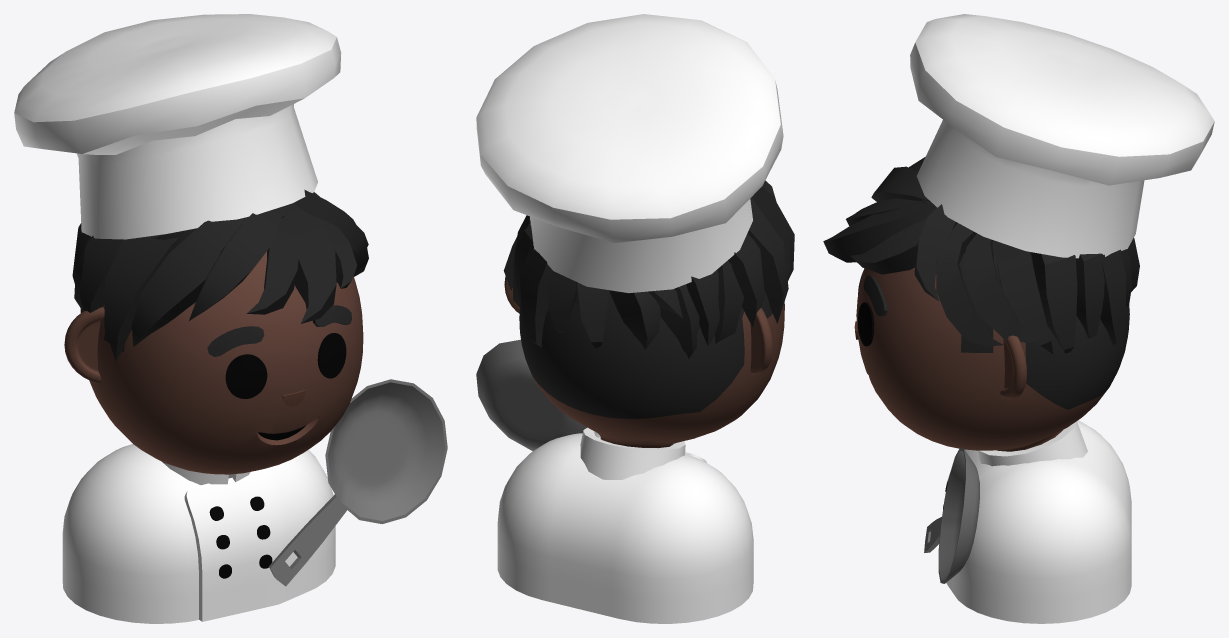
Rendered from cook.glb.
The picture shows the model from 3 angles, left to right: view 1: azimuth 30°, elevation 25°; view 2: azimuth 150°, elevation 25°; view 3: azimuth 270°, elevation 25°; orthographic projection. The views are drawn at different scales.
Parts seen in each view (by area): view 1: Circle.612, Sphere.053, Roundcube.095, Cube.1181, Circle.613, Circle.608, Cylinder.086, Circle.610, Cube.1189, Roundcube.096; view 2: Circle.612, Sphere.053, Roundcube.095, Cube.1181, Circle.613, Roundcube.096, Cylinder.086; view 3: Circle.612, Roundcube.095, Cube.1181, Sphere.053, Circle.613, Roundcube.096, Cylinder.086, Circle.608, Circle.610.
Boxes of the visible parts, x1,y1,x2,y2 form: Circle.612: [14, 14, 341, 239]; Sphere.053: [62, 444, 335, 623]; Roundcube.095: [80, 251, 363, 474]; Cube.1181: [72, 189, 368, 361]; Circle.613: [269, 379, 447, 586]; Circle.608: [225, 333, 346, 398]; Cylinder.086: [64, 307, 104, 383]; Circle.610: [207, 305, 351, 356]; Cube.1189: [209, 496, 272, 578]; Roundcube.096: [162, 462, 250, 485]; Circle.612: [476, 14, 783, 293]; Sphere.053: [497, 433, 753, 623]; Roundcube.095: [519, 290, 784, 447]; Cube.1181: [503, 180, 794, 358]; Circle.613: [476, 339, 586, 450]; Roundcube.096: [580, 427, 685, 479]; Cylinder.086: [504, 276, 772, 373]; Circle.612: [910, 14, 1214, 258]; Roundcube.095: [856, 241, 1129, 451]; Cube.1181: [823, 157, 1139, 353]; Sphere.053: [945, 420, 1131, 623]; Circle.613: [924, 447, 979, 583]; Roundcube.096: [977, 421, 1087, 466]; Cylinder.086: [1000, 335, 1027, 399]; Circle.608: [858, 270, 874, 346]; Circle.610: [863, 275, 887, 316].
Bounding box in the file's own units: 1.74 × 2.57 × 1.74.
2 materials, 2 textured.
